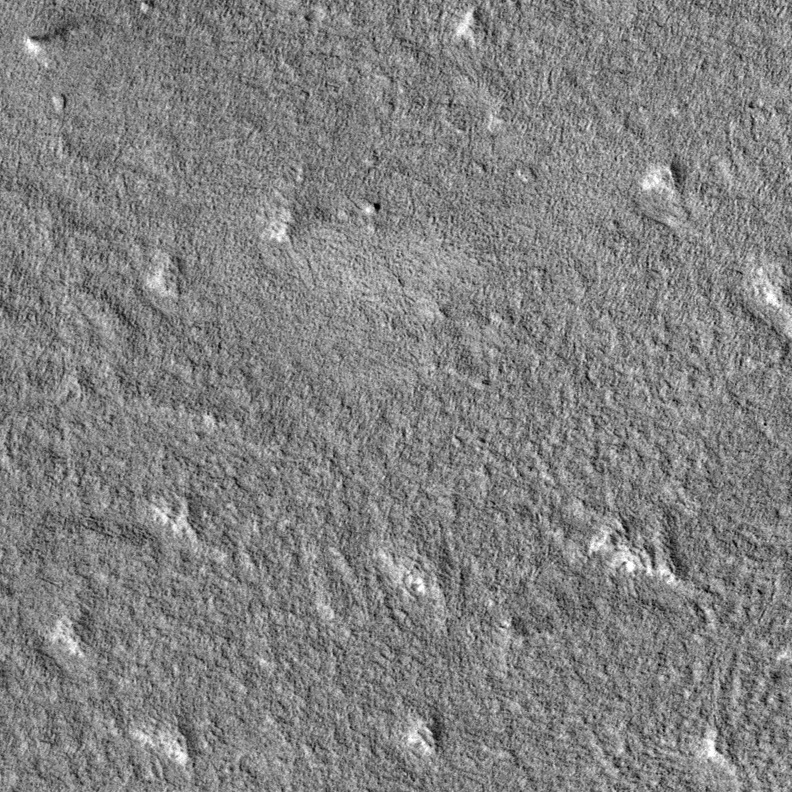dust_devil: (23, 26, 72, 57)
